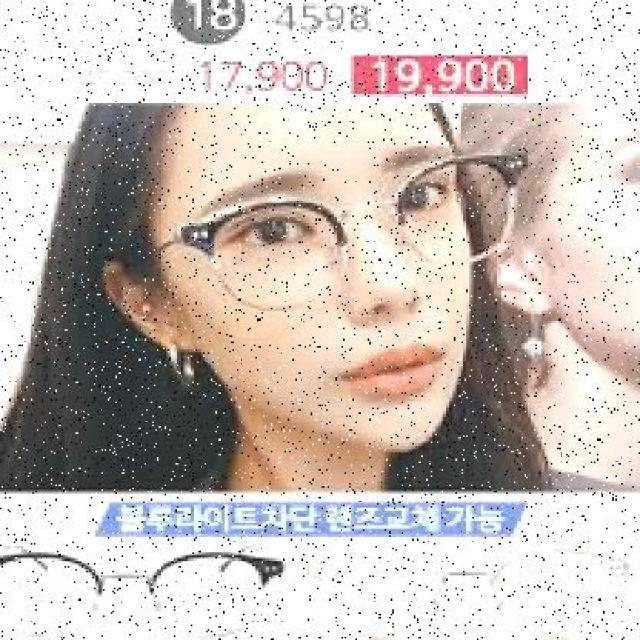glasses: (154, 138, 564, 324)
